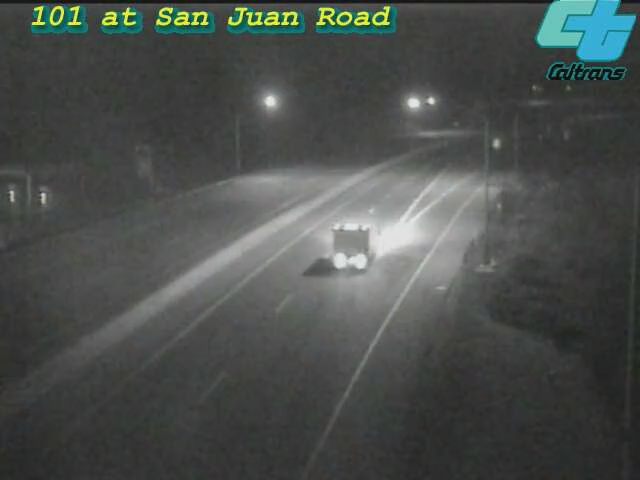vehicle: (310, 207, 390, 287)
